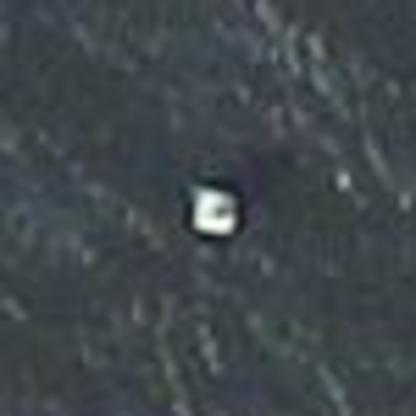ship: (175, 170, 250, 245)
